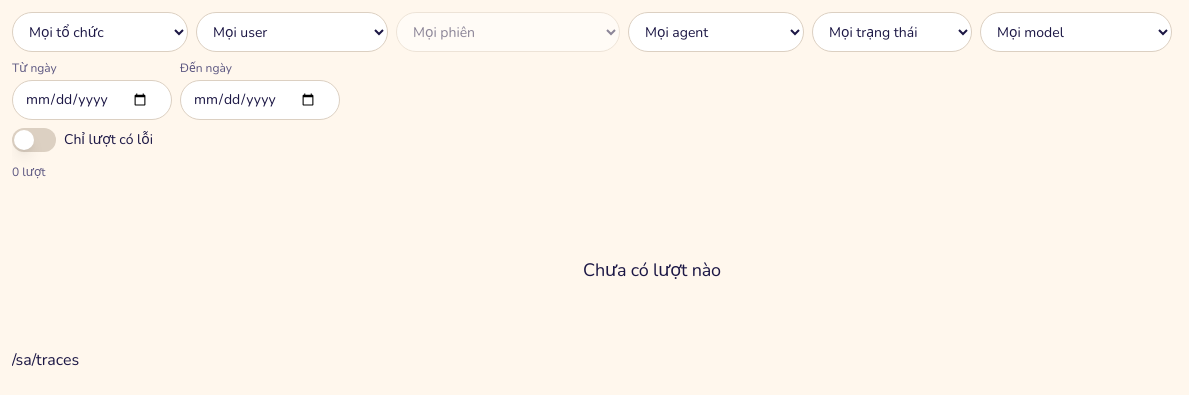
TracesPage › phiên chỉ chọn được sau khi chọn user; đổi user thì bỏ phiên
The image size is (1189, 395).
Expected: the dropdown with test id "trace-session" is disabled, [396,12,620,52]
Select "An" in the dropdown with test id "trace-user" at {"x": 292, "y": 32}, box [196,12,388,52]
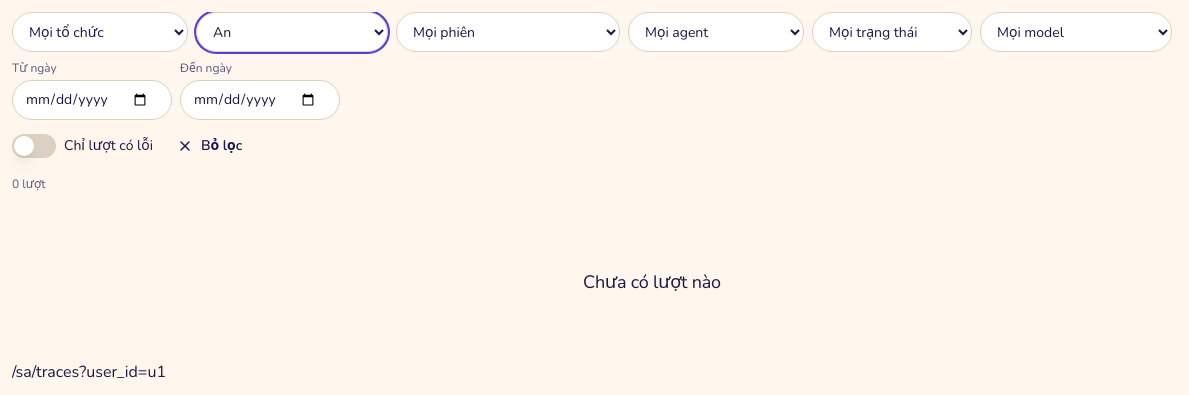
Expected: the dropdown with test id "trace-session" is enabled
Select "Chat chi tiêu" in the dropdown with test id "trace-session" at {"x": 508, "y": 32}, box [396,12,620,52]
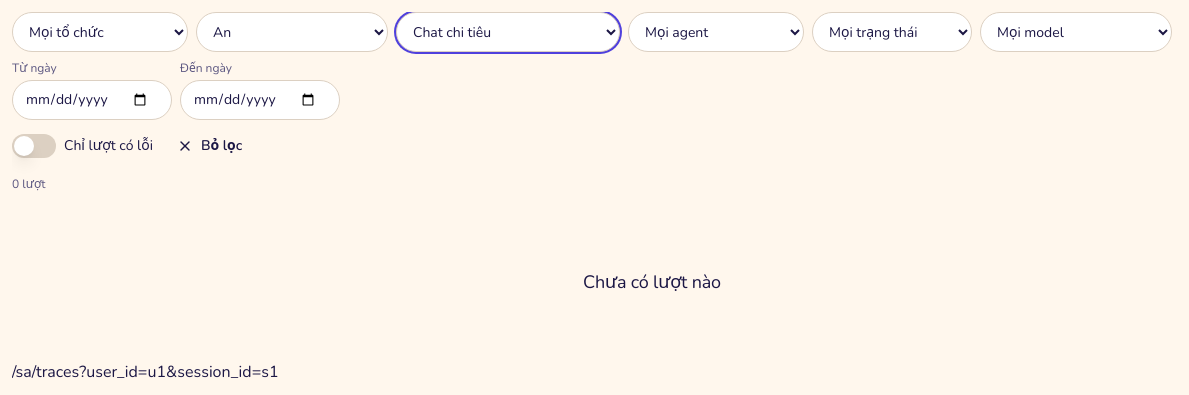
Select "Bình" in the dropdown with test id "trace-user" at {"x": 292, "y": 32}, box [196,12,388,52]
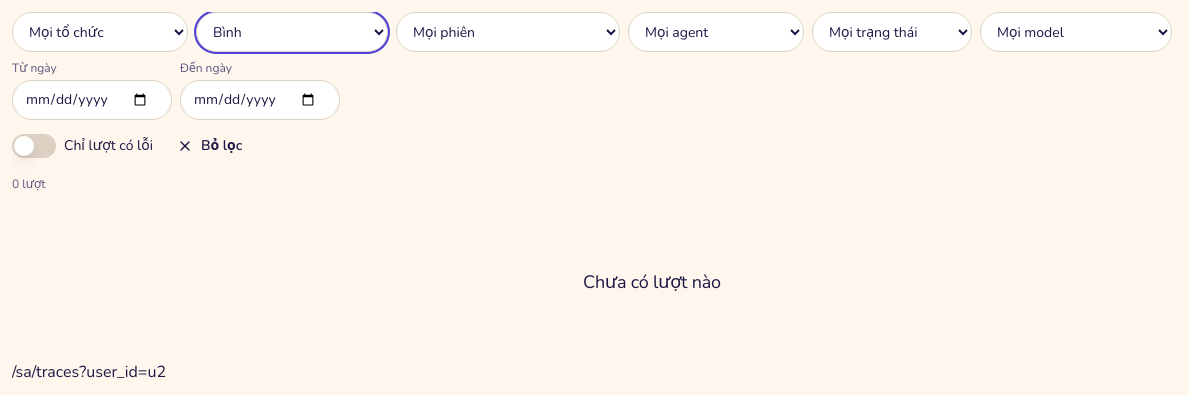
Expected: the text with test id "where" no longer shows "session_id"
